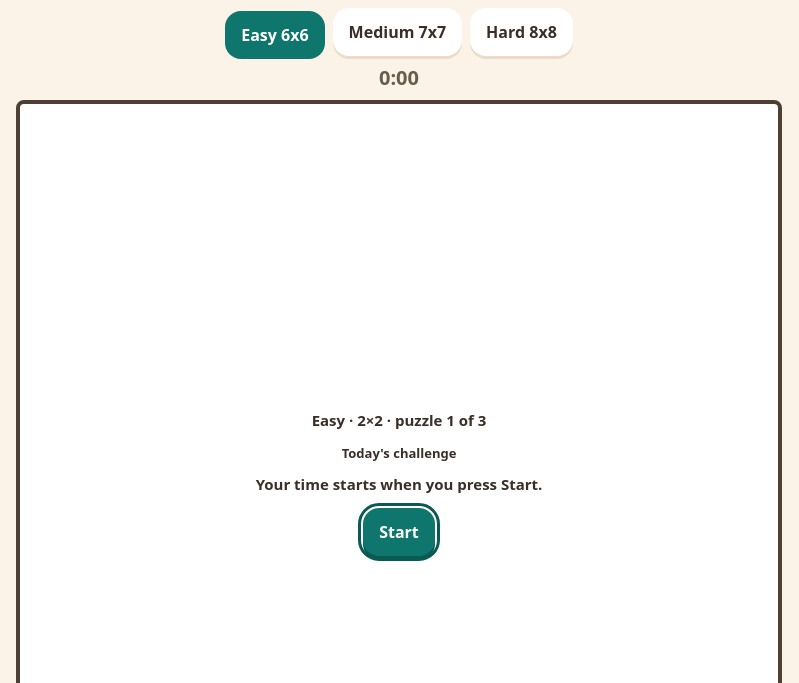
Test: the cover (rules 9-12) › a mouse Start leaves the board unfocused, even with Start focused (slice 3b, rule 16)
Step 1. Click the button "Start" → (399, 532), box x1=363 y1=508 x2=435 y2=556
(page scrolled)
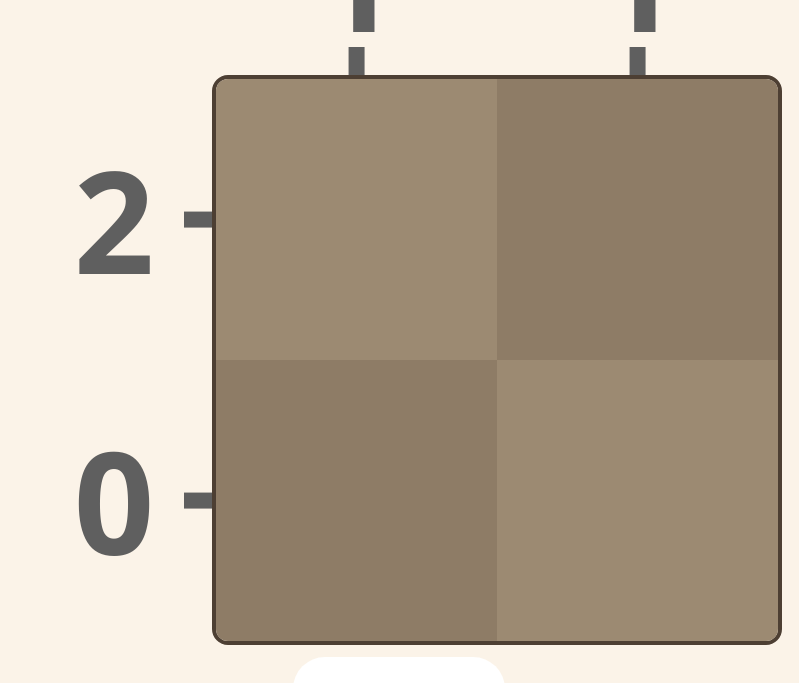
Check: the table is shown, box x1=216 y1=79 x2=778 y2=641
